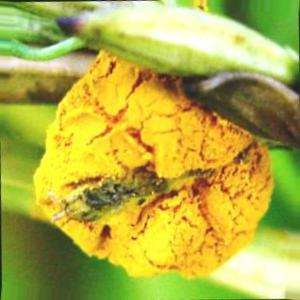False Smut: (158, 96, 233, 268), (97, 69, 151, 254), (43, 115, 86, 235), (240, 146, 269, 232)
